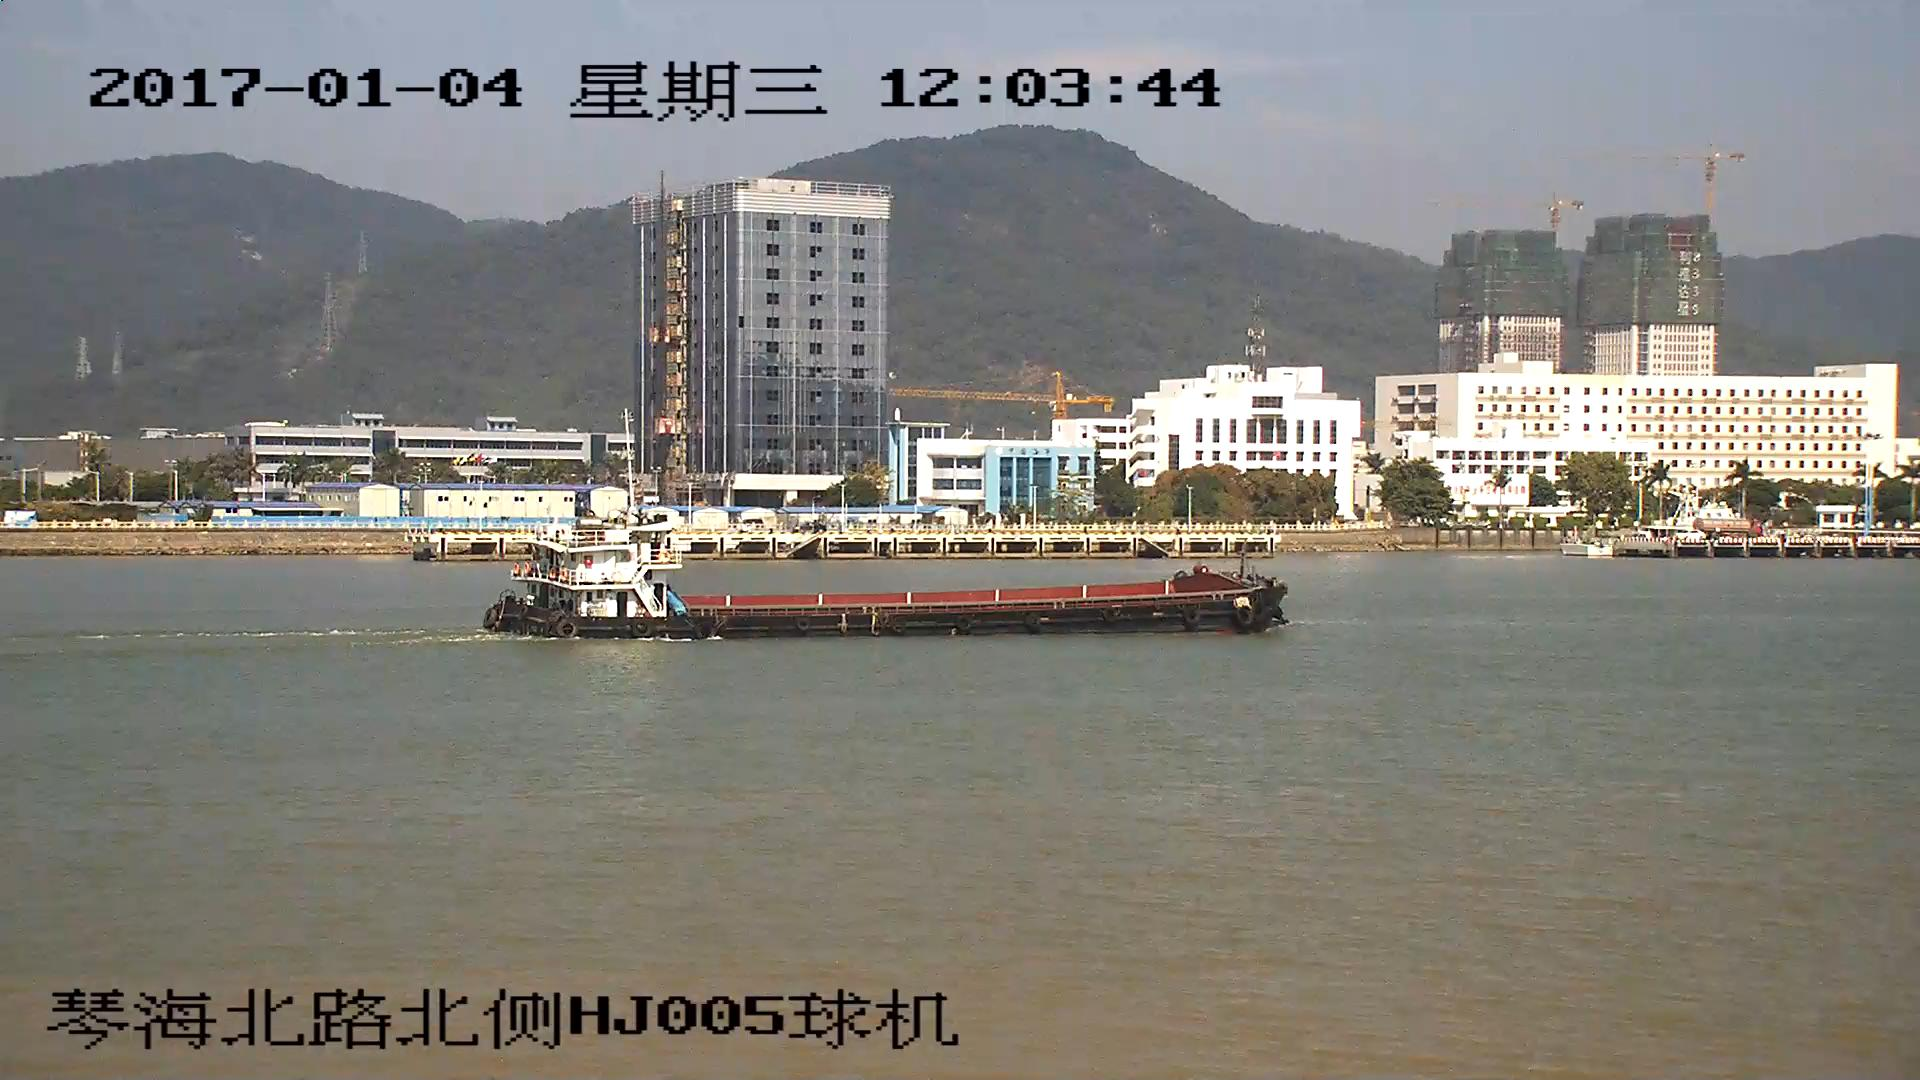general cargo ship: (483, 520, 1288, 642)
